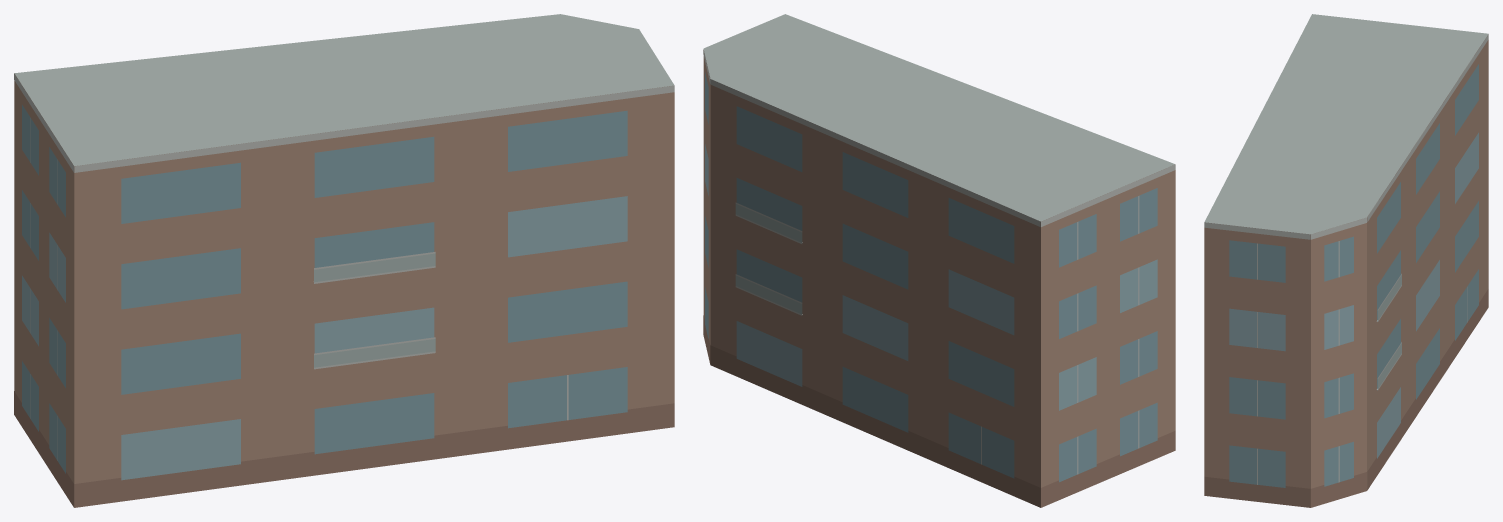
The model's file is survey-upis-32632997.glb.
3 renders of one model, left to right at view 1: azimuth 30°, elevation 25°; view 2: azimuth 150°, elevation 25°; view 3: azimuth 270°, elevation 25°, orthographic. The views are drawn at different scales.
Visible parts, largest first — view 1: survey-upis-32632997.tmp; view 2: survey-upis-32632997.tmp; view 3: survey-upis-32632997.tmp.
Boxes of the visible parts, x1=… form: survey-upis-32632997.tmp: x1=14, y1=14, x2=674, y2=507; survey-upis-32632997.tmp: x1=703, y1=14, x2=1175, y2=507; survey-upis-32632997.tmp: x1=1204, y1=14, x2=1488, y2=507.
Bounding box in the file's own units: 21.26 × 12.3 × 11.6.
